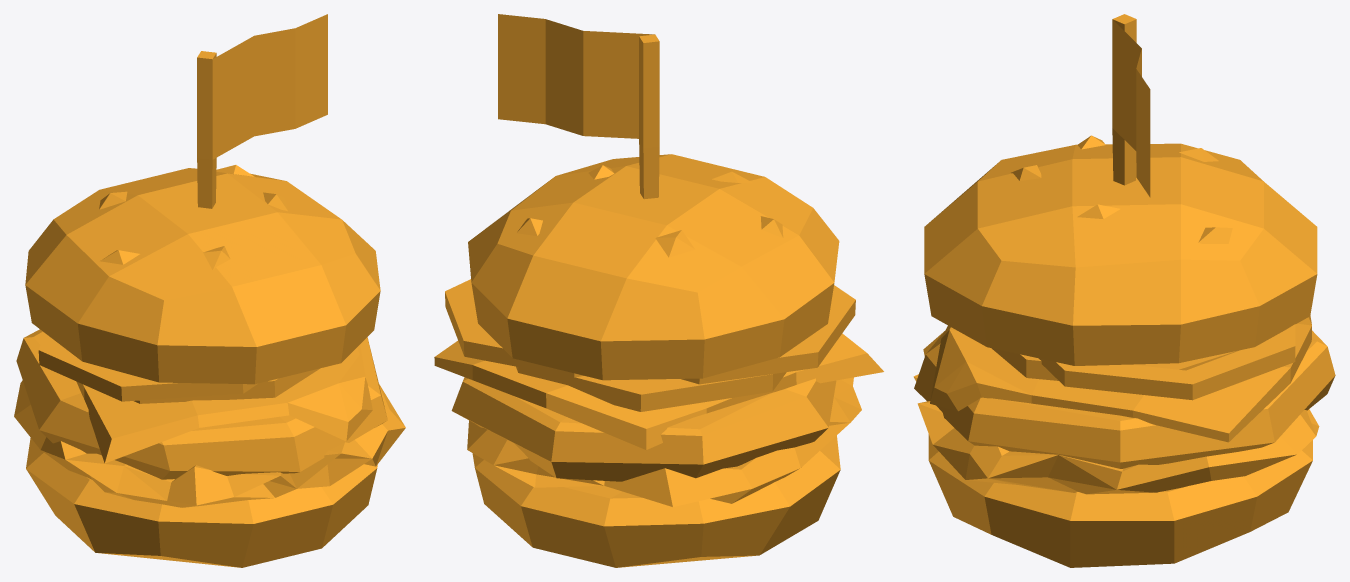
Rendered from SM_Burger_4july.fbx.
The picture shows the model from 3 angles, left to right: view 1: azimuth 30°, elevation 25°; view 2: azimuth 150°, elevation 25°; view 3: azimuth 270°, elevation 25°; orthographic projection. The views are drawn at different scales.
Visible parts, largest first — view 1: burger-4july; view 2: burger-4july; view 3: burger-4july.
Part boxes in pixels (box(x1,y1,x2,y2)): burger-4july: box(14, 14, 405, 567); burger-4july: box(434, 14, 883, 567); burger-4july: box(913, 14, 1335, 567).
Bounding box in the file's own units: 0.1539 × 0.2046 × 0.1563.
